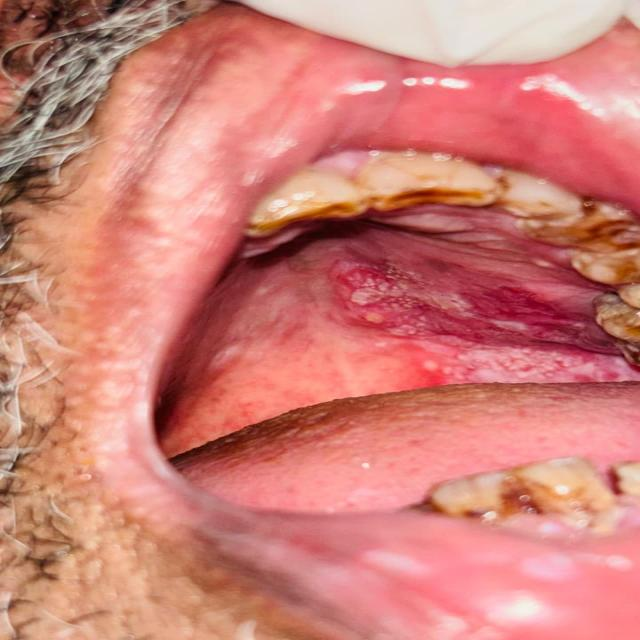cancer-detection: (300, 222, 639, 389)
processing_area: (58, 14, 639, 530)
